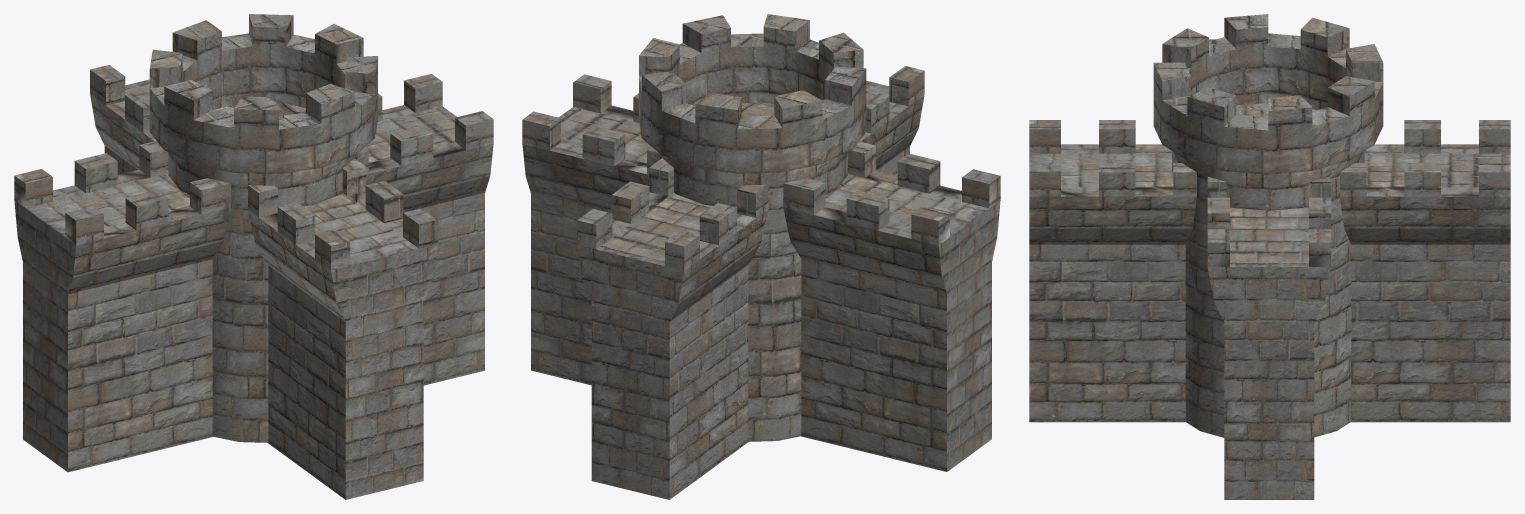
The model's file is Wall_T4.glb.
3 renders of one model, left to right at view 1: azimuth 30°, elevation 25°; view 2: azimuth 150°, elevation 25°; view 3: azimuth 270°, elevation 25°, orthographic.
Visible parts, largest first — view 1: Wall_T4; view 2: Wall_T4; view 3: Wall_T4.
Part boxes in pixels (x1=…): Wall_T4: x1=14, y1=14, x2=493, y2=499; Wall_T4: x1=522, y1=14, x2=1000, y2=499; Wall_T4: x1=1029, y1=14, x2=1510, y2=499.
Size of the model in its own units: 1.34 by 1.04 by 1.34.
Materials: 3 (3 with a texture image).
